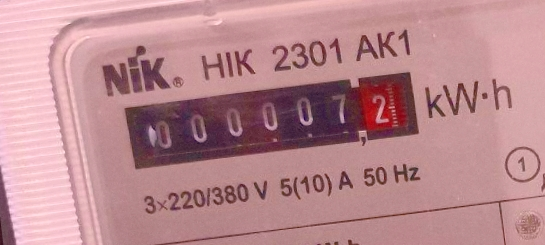0: (220, 101, 247, 142), (150, 115, 176, 152), (291, 91, 316, 129), (258, 97, 282, 136), (186, 109, 210, 146)
2: (367, 90, 392, 128)
7: (327, 88, 352, 128)
screen: (117, 63, 429, 177)
